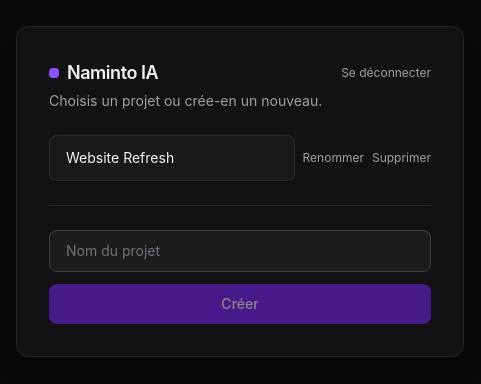
Test: ProjectPicker › delete › does nothing until the deletion is confirmed
The width and height of the screenshot is (481, 384).
Expected: the button "Website Refresh" is shown, [49,134,295,180]
Click the button "Supprimer" at (401, 158), box [372,150,431,166]
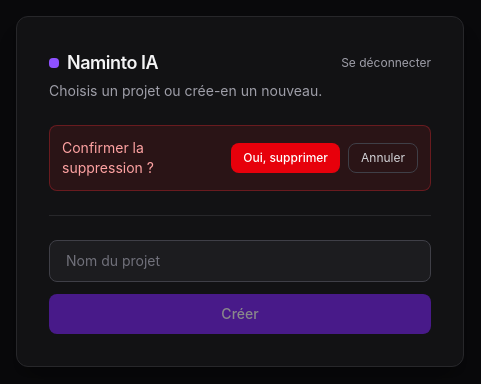
Expected: the text "Confirmer la suppression ?" is shown, [62,138,154,176]
Click the button "Annuler" at (383, 158), box [348,142,418,172]
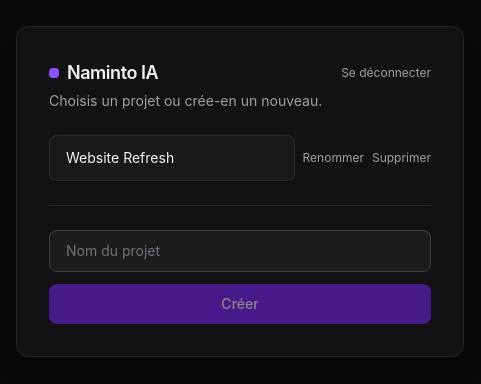
Expected: the button "Website Refresh" is shown, [49,134,295,180]
